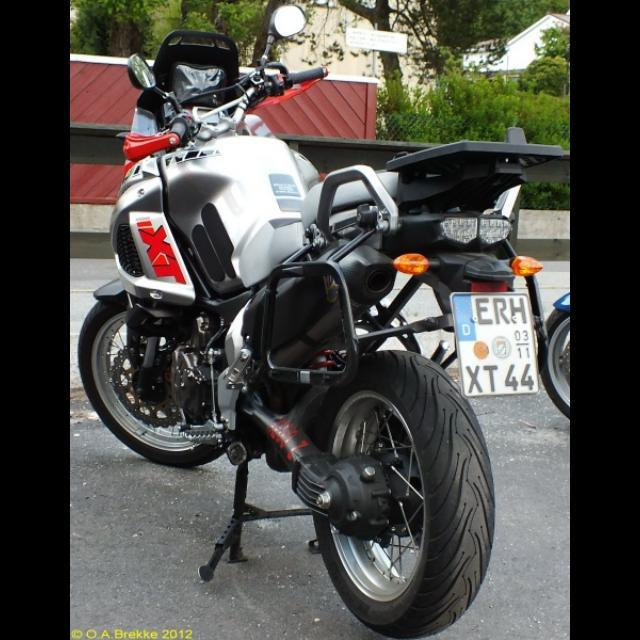license-plates: (452, 293, 540, 397)
